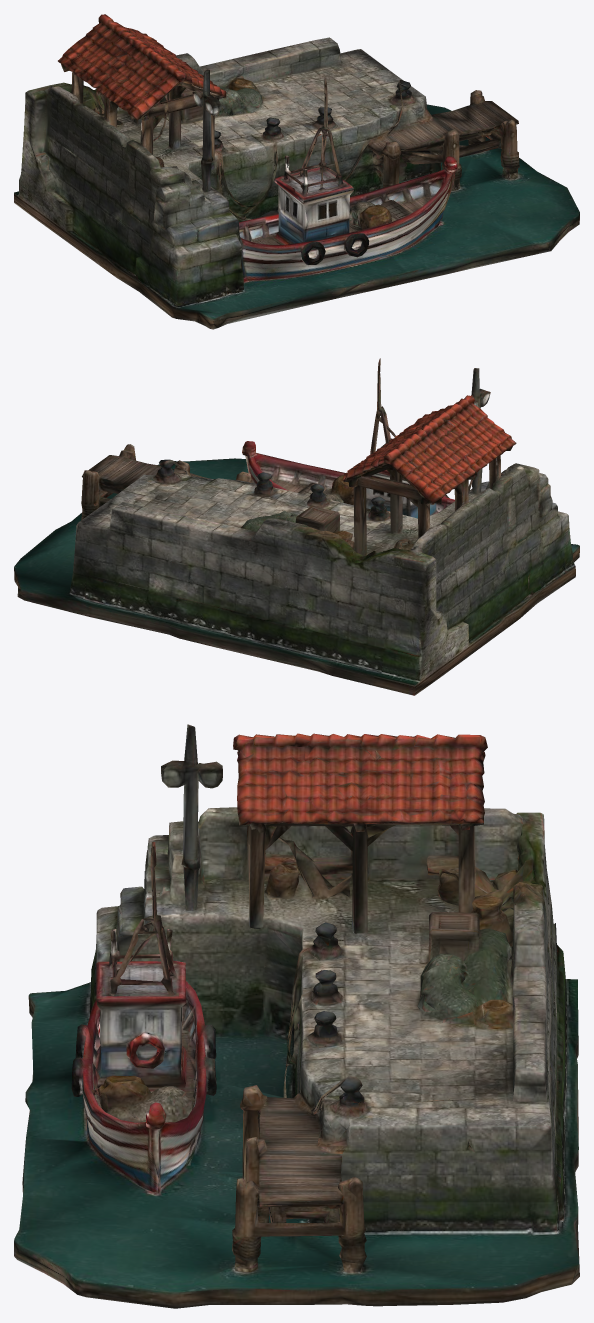
The model's file is city_trabzon_harbour.glb.
3 renders of one model, top to bottom at view 1: azimuth 30°, elevation 25°; view 2: azimuth 150°, elevation 25°; view 3: azimuth 270°, elevation 25°, orthographic. The views are drawn at different scales.
Parts seen in each view (by area): view 1: Mesh1.0; view 2: Mesh1.0; view 3: Mesh1.0.
Boxes of the visible parts, x1,y1,x2,y2 form: Mesh1.0: [14, 14, 579, 329]; Mesh1.0: [14, 358, 579, 695]; Mesh1.0: [14, 724, 579, 1308].
Size of the model in its own units: 10.51 by 5 by 8.01.
1 material, 1 textured.
